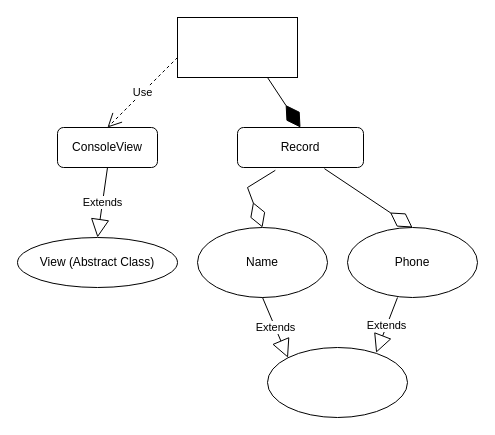
Image size: 495x435. Some labels were removed from this diagram. The shapes that lost their labels are listed below. From the top down, each one's centre as x and y in pixels, then its label:
At (x=237, y=47): "AddressBook".
At (x=337, y=382): "Field".
